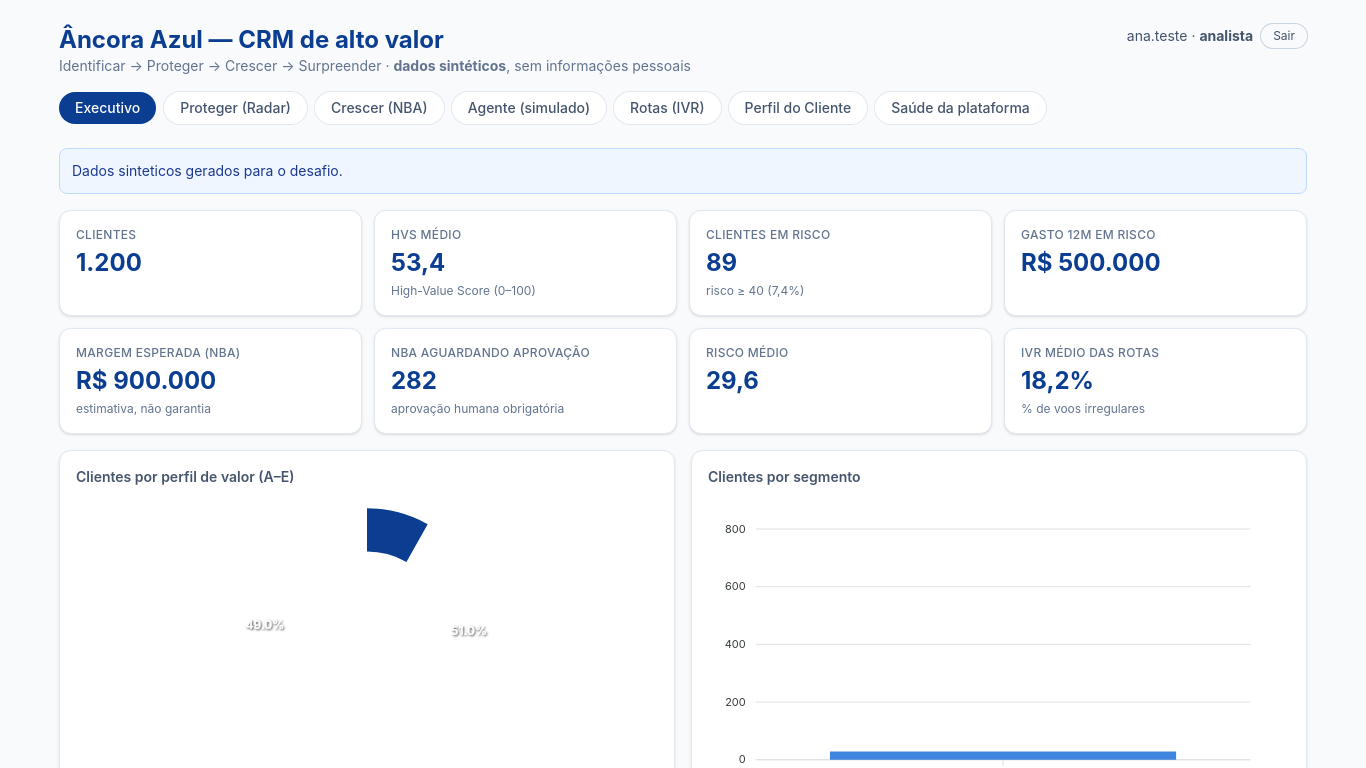
Test case: App › aba Rotas lista rotas por IVR
Click the button "Rotas (IVR)": (667, 108) [614,92,720,124]
(page scrolled)
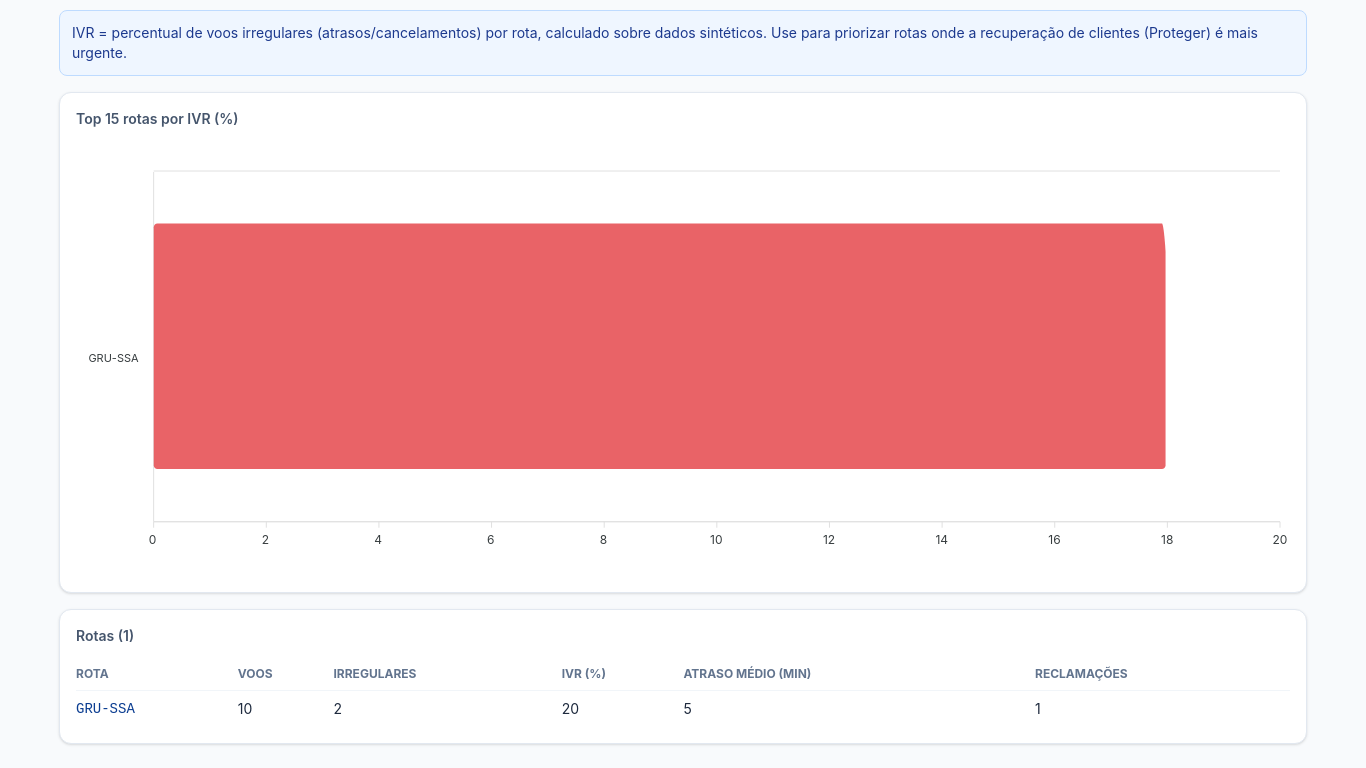
Expected: the heading "Top 15 rotas por IVR (%)" is shown, [76,110,239,127]
Expected: the cell "GRU-SSA" is shown, [76,690,238,727]
